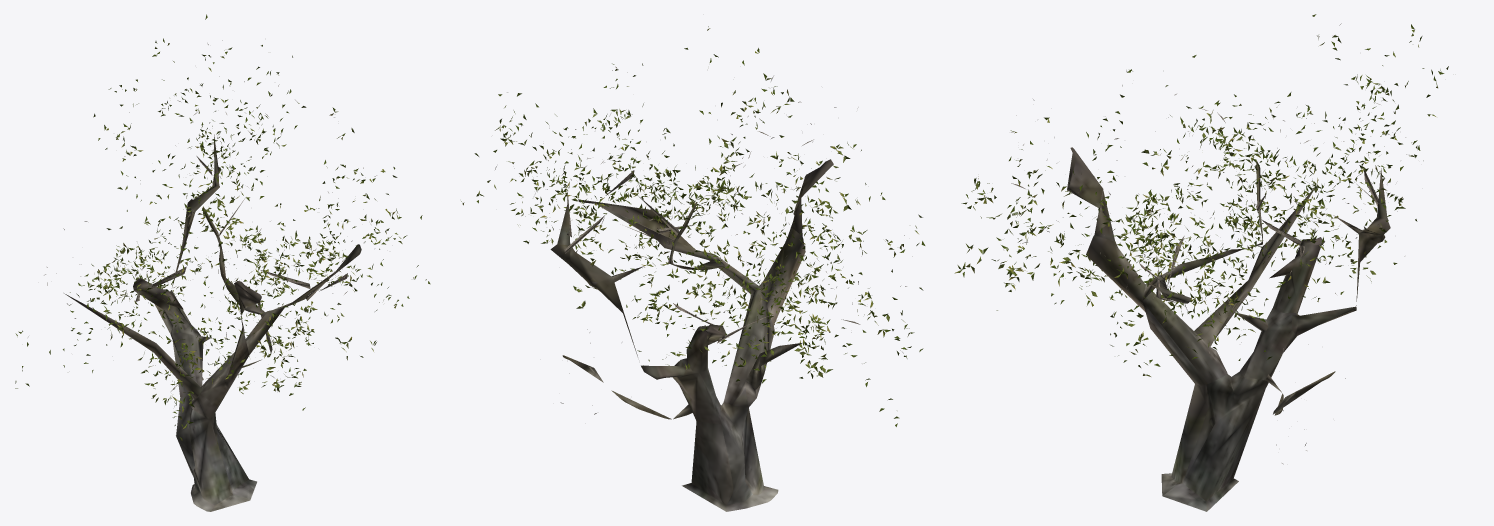
Rendered from island_tree_01_far.glb.
The picture shows the model from 3 angles, left to right: view 1: azimuth 30°, elevation 25°; view 2: azimuth 150°, elevation 25°; view 3: azimuth 270°, elevation 25°; orthographic projection. The views are drawn at different scales.
Visible parts, largest first — view 1: island_tree_01_LOD0; view 2: island_tree_01_LOD0; view 3: island_tree_01_LOD0.
Part boxes in pixels (x1,y1,x2,y2): island_tree_01_LOD0: (15,14,430,511); island_tree_01_LOD0: (461,26,925,511); island_tree_01_LOD0: (954,14,1448,511).
Size of the model in its own units: 4.68 by 4.89 by 4.62.
Materials: 3 (3 with a texture image).
